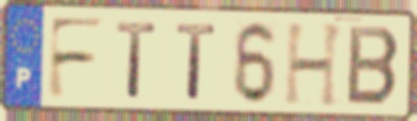6: (232, 19, 279, 108)
B: (344, 22, 403, 108)
F: (45, 15, 108, 103)
H: (282, 21, 348, 110)
T: (173, 21, 219, 102), (113, 20, 159, 101)
